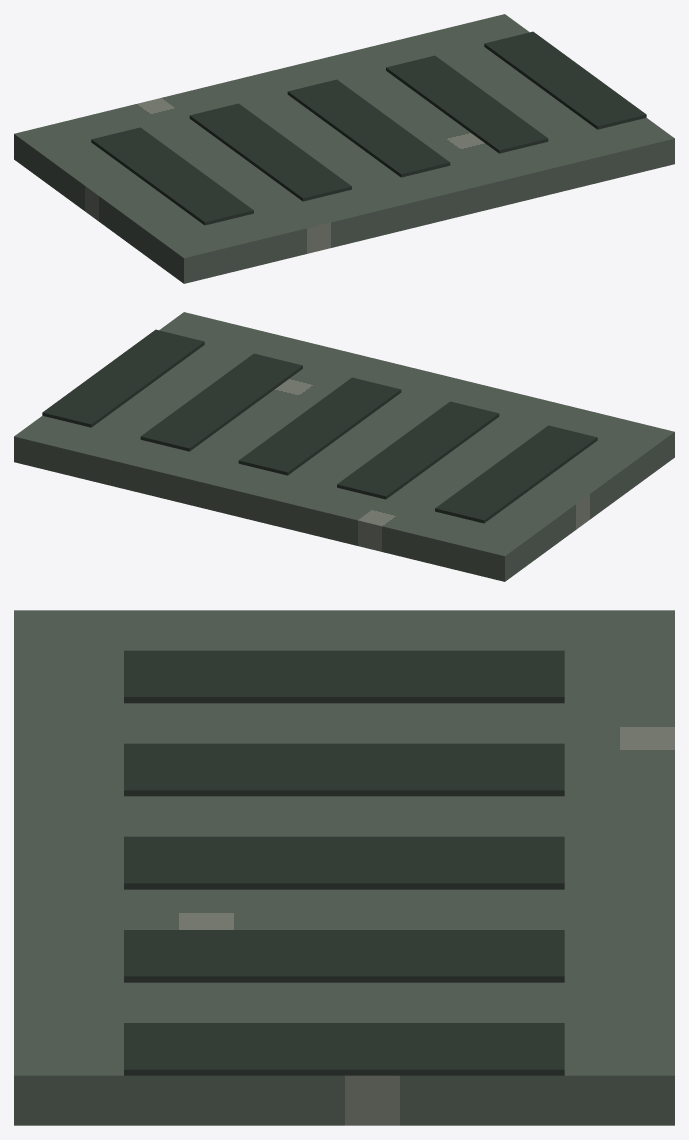
Rendered from drain.gltf.
The picture shows the model from 3 angles, top to bottom: view 1: azimuth 30°, elevation 25°; view 2: azimuth 150°, elevation 25°; view 3: azimuth 270°, elevation 25°; orthographic projection. The views are drawn at different scales.
Visible parts, largest first — view 1: frame, slot (×5); view 2: frame, slot (×5); view 3: frame, slot (×5).
Part boxes in pixels (box(x1,y1,x2,y2)): frame: box(14, 14, 674, 283); slot (×5): box(91, 31, 646, 225); frame: box(14, 312, 674, 581); slot (×5): box(42, 329, 597, 523); frame: box(14, 610, 674, 1125); slot (×5): box(124, 650, 564, 1075).
Bounding box in the file's own units: 1.25 × 0.0703 × 0.75.
Materials: 2 (2 with a texture image).
